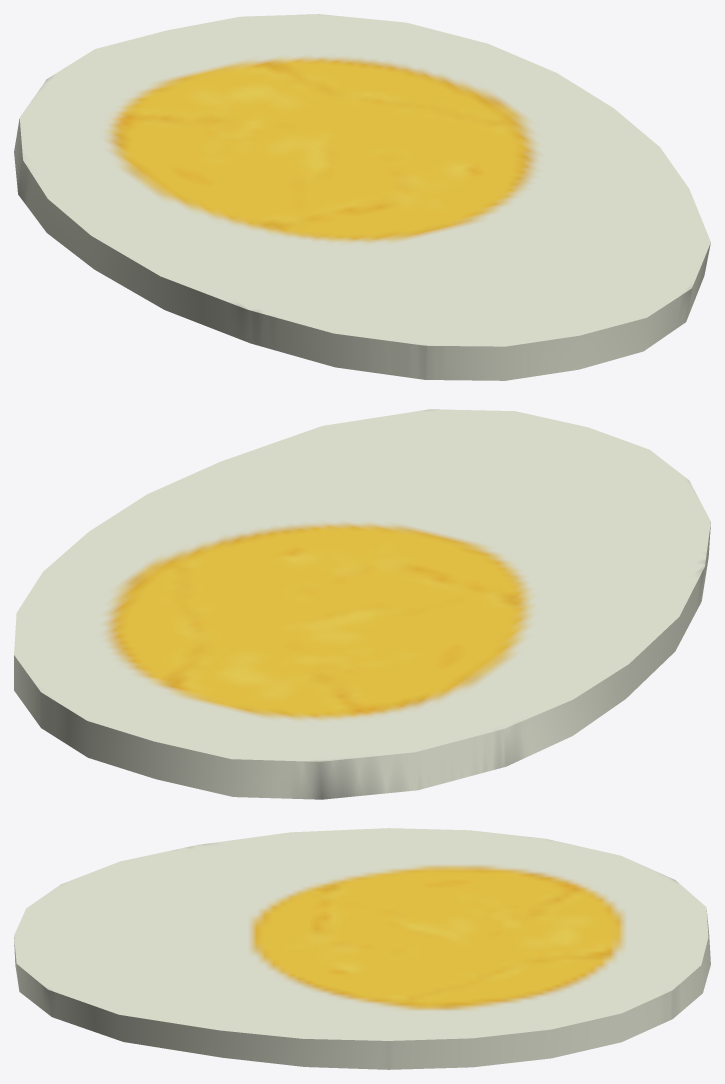
Rendered from egg.FBX.
The picture shows the model from 3 angles, top to bottom: view 1: azimuth 30°, elevation 25°; view 2: azimuth 150°, elevation 25°; view 3: azimuth 270°, elevation 25°; orthographic projection. The views are drawn at different scales.
Parts seen in each view (by area): view 1: egg; view 2: egg; view 3: egg.
Boxes of the visible parts, bbox=[...] form: egg: bbox=[14, 14, 710, 380]; egg: bbox=[14, 409, 710, 799]; egg: bbox=[14, 828, 710, 1069].
Bounding box in the file's own units: 5.15 × 0.3258 × 7.13.
